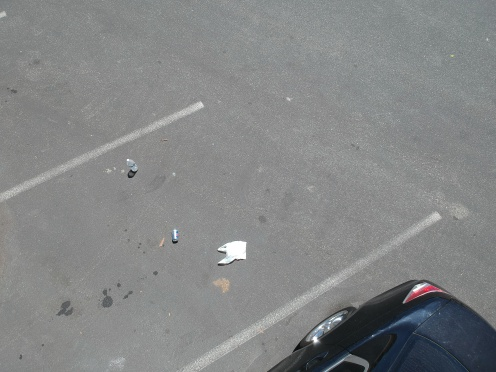bottle: (120, 157, 141, 174)
can: (169, 226, 181, 243)
plastic bag: (212, 234, 250, 268)
